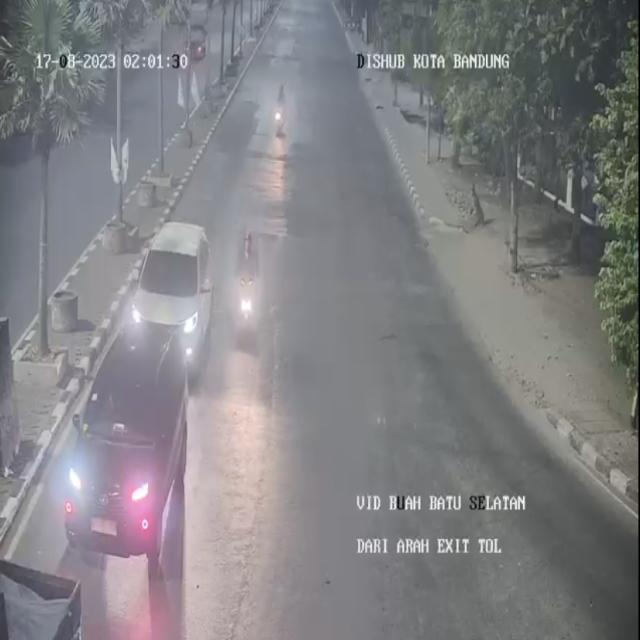cars: (59, 326, 199, 548), (123, 223, 211, 373)
motorcycle: (230, 224, 257, 335), (272, 80, 292, 137)
